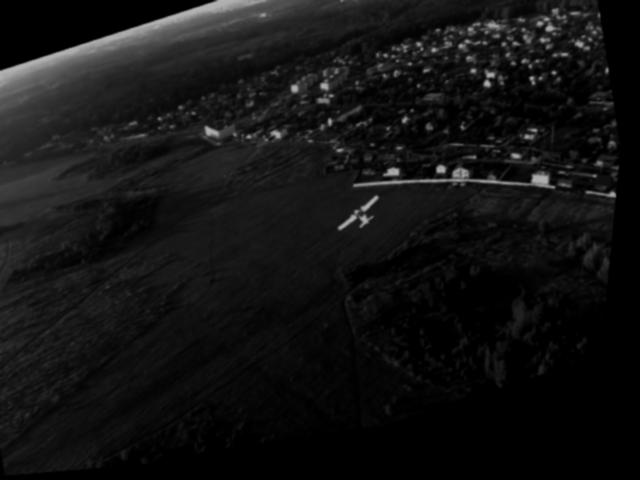hedef: (328, 188, 399, 254)
